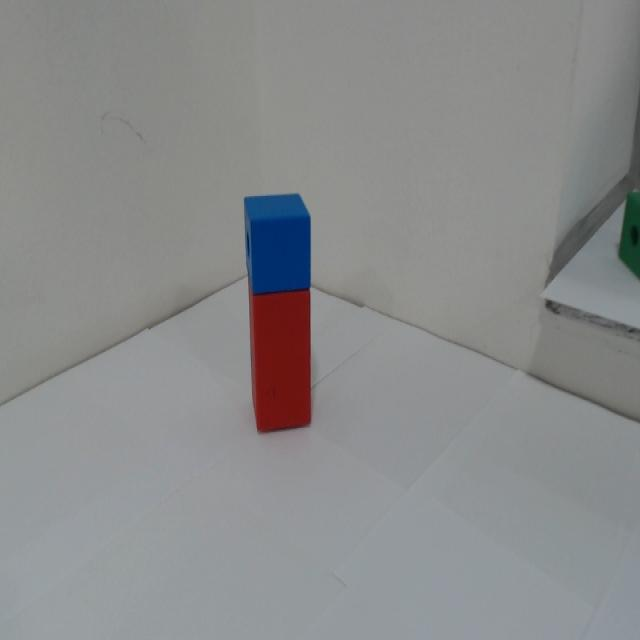cube: (243, 192, 320, 290)
